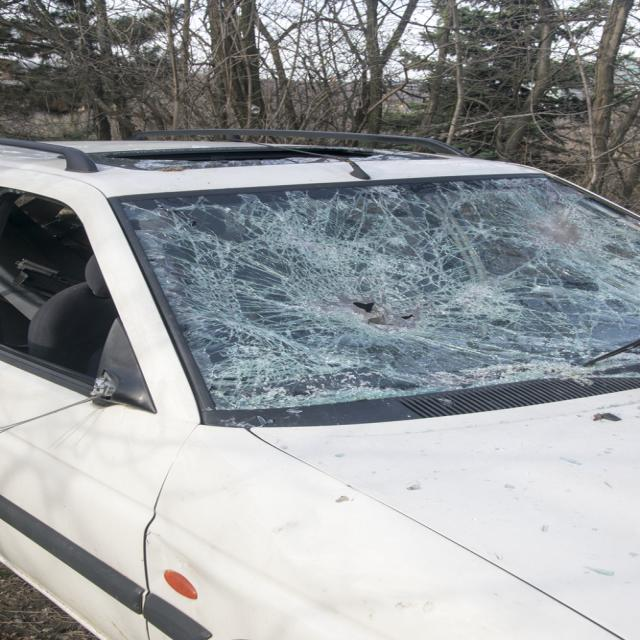glass shatter: (120, 177, 640, 410)
